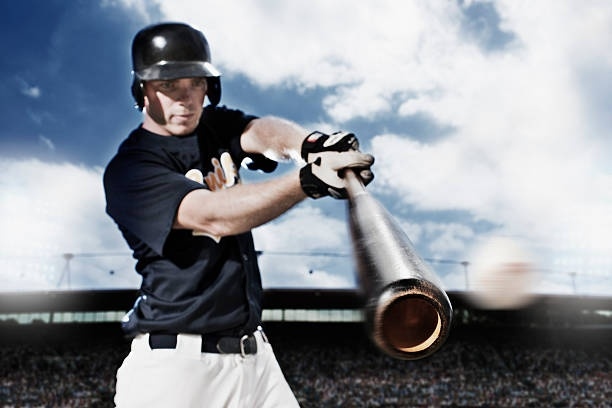bita: (334, 141, 452, 359)
